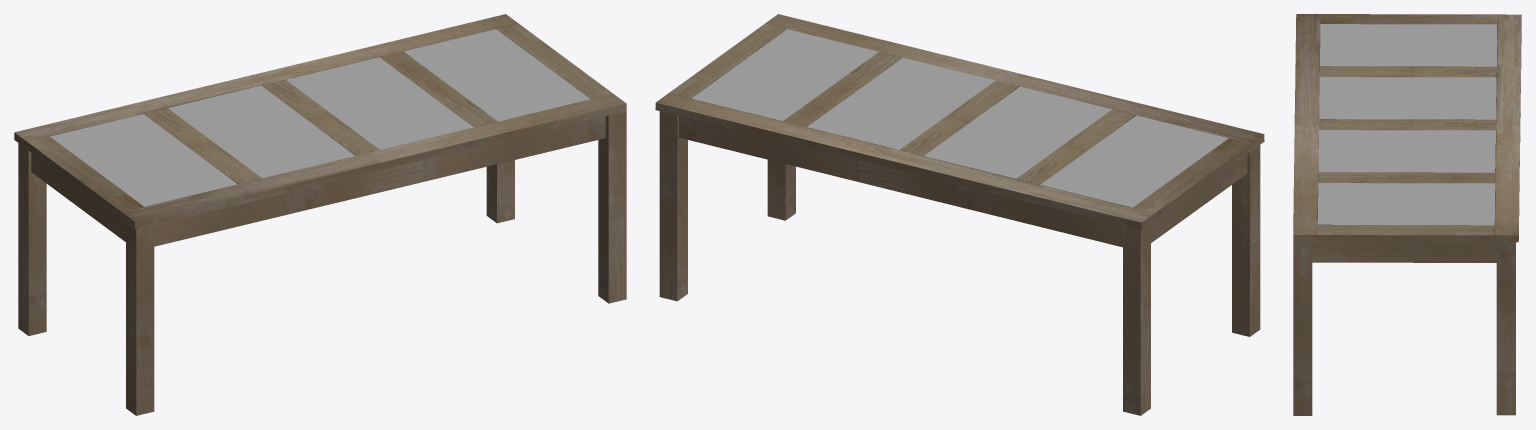
Rendered from table2_re-oriented.fbx.
The picture shows the model from 3 angles, left to right: view 1: azimuth 30°, elevation 25°; view 2: azimuth 150°, elevation 25°; view 3: azimuth 270°, elevation 25°; orthographic projection. The views are drawn at different scales.
Visible parts, largest first — view 1: table; view 2: table; view 3: table.
Part boxes in pixels (x1,y1,x2,y2): table: (14, 14, 626, 415); table: (655, 14, 1264, 415); table: (1293, 14, 1521, 415).
Size of the model in its own units: 2.49 by 0.9497 by 1.09.
Materials: 3 (2 with a texture image).
